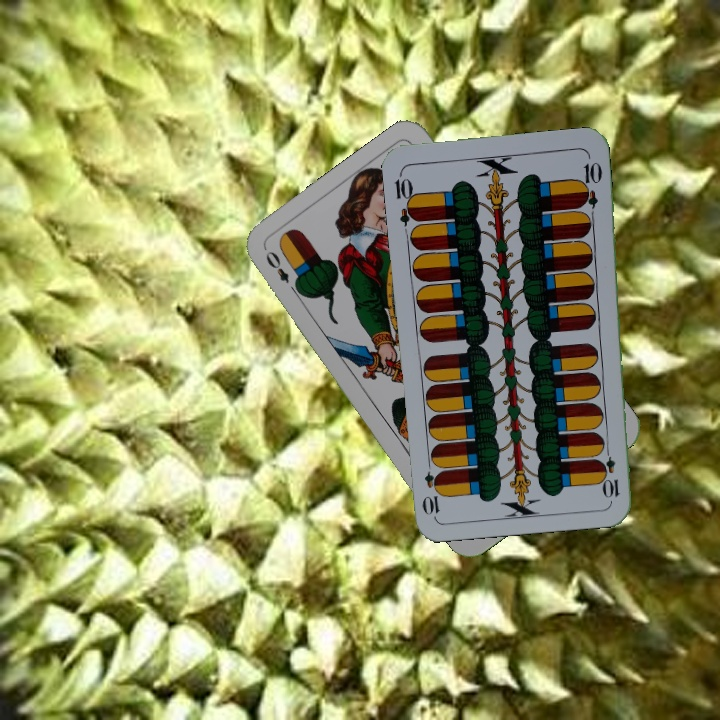E10: (391, 168, 420, 227), (600, 441, 622, 501)
EO: (261, 246, 302, 298)
